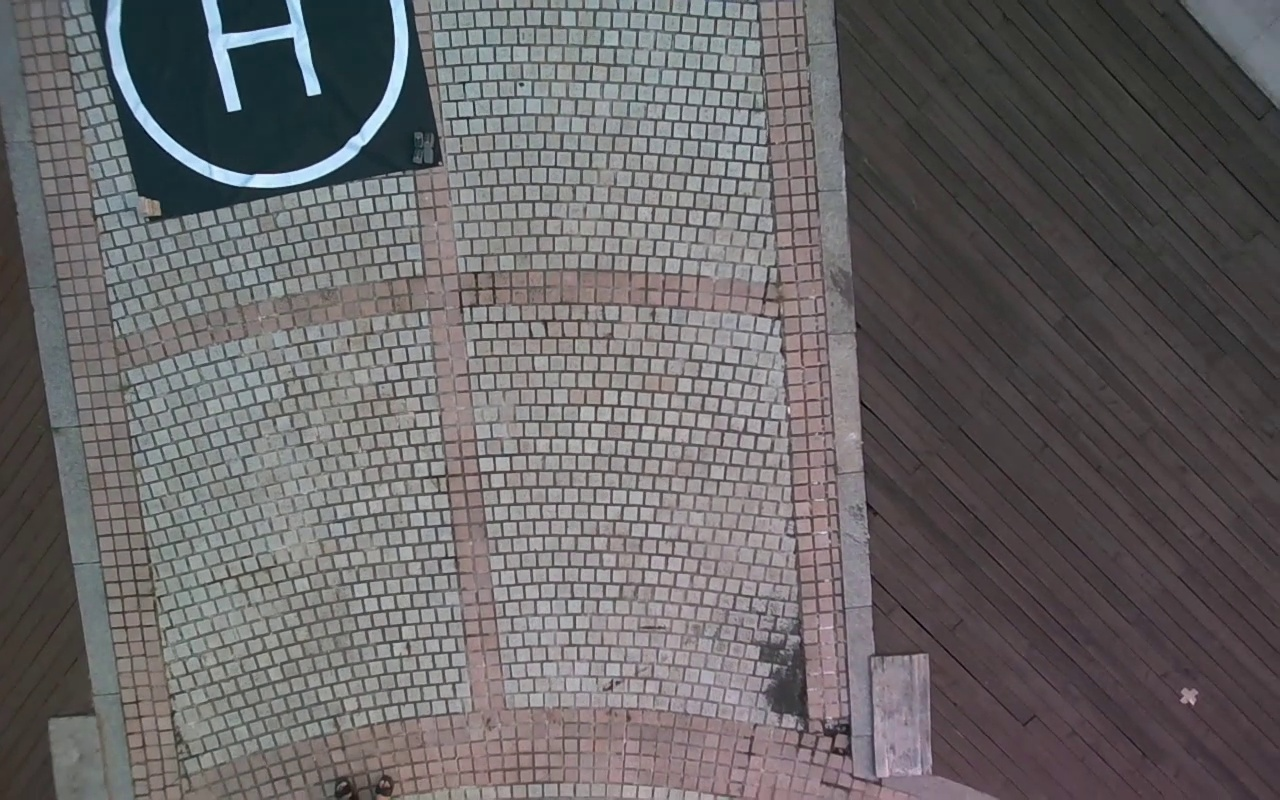H: (199, 1, 323, 103)
